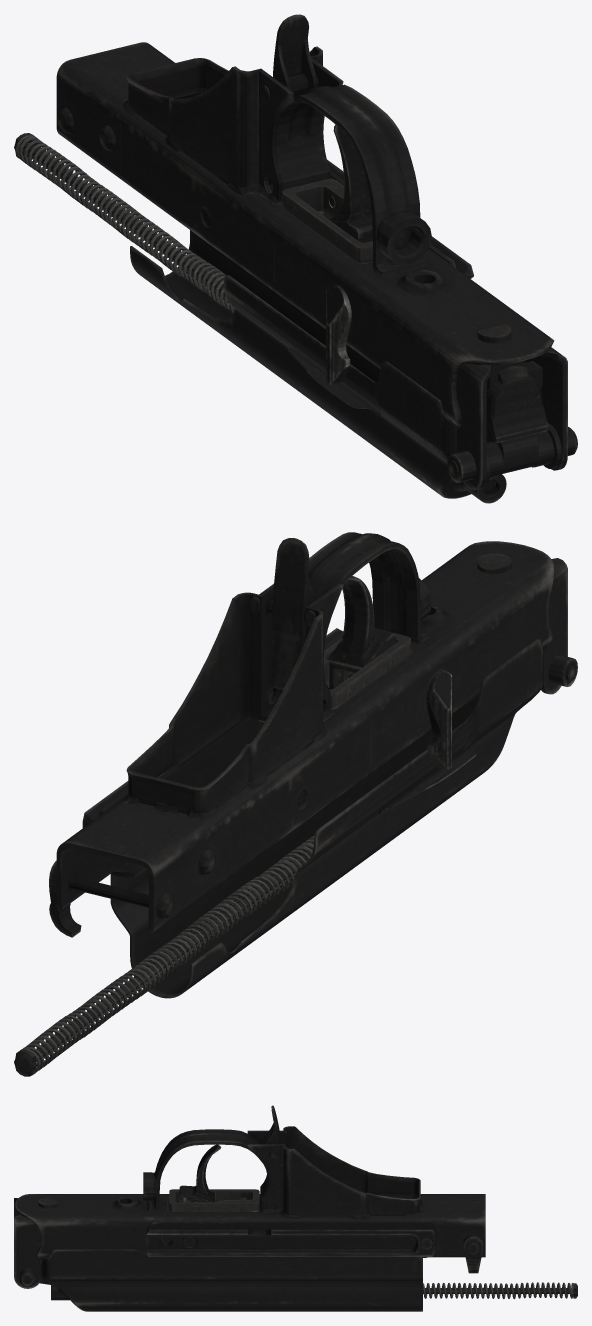
The picture shows the model from 3 angles, top to bottom: view 1: azimuth 30°, elevation 25°; view 2: azimuth 150°, elevation 25°; view 3: azimuth 270°, elevation 25°; orthographic projection. The views are drawn at different scales.
Parts seen in each view (by area): view 1: TW_645e0c6b3b381ede770e1cc9_PZ_Import; view 2: TW_645e0c6b3b381ede770e1cc9_PZ_Import; view 3: TW_645e0c6b3b381ede770e1cc9_PZ_Import.
Part boxes in pixels (bbox=[...]): TW_645e0c6b3b381ede770e1cc9_PZ_Import: bbox=[14, 14, 577, 503]; TW_645e0c6b3b381ede770e1cc9_PZ_Import: bbox=[14, 532, 577, 1076]; TW_645e0c6b3b381ede770e1cc9_PZ_Import: bbox=[14, 1105, 577, 1311].
Bounding box in the file's own units: 0.0232 × 0.1547 × 0.0615.
1 material, 1 textured.
